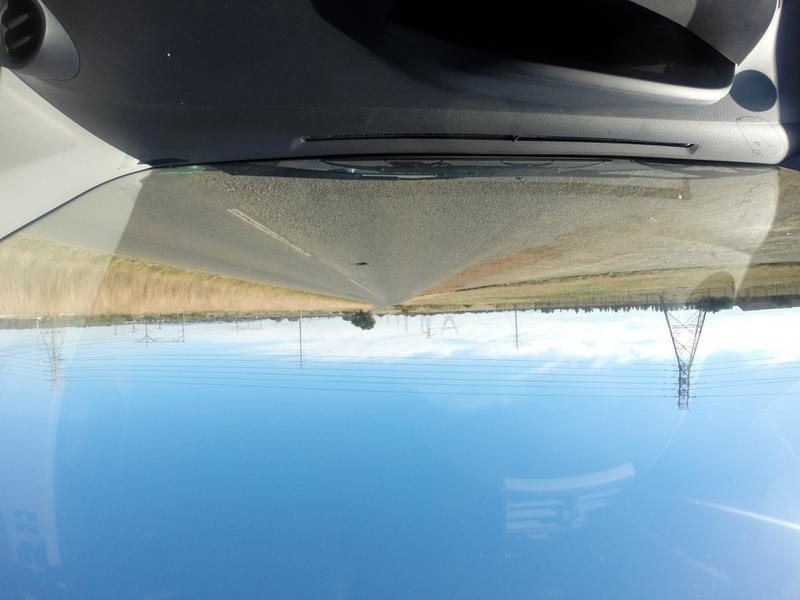pothole: (345, 258, 368, 269)
